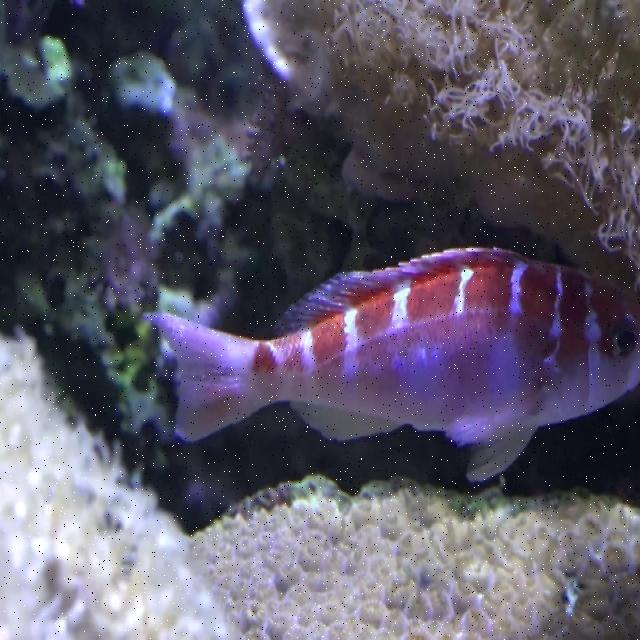fish: (143, 246, 639, 483)
reefs: (246, 0, 639, 287), (191, 472, 639, 639), (0, 332, 233, 639)
